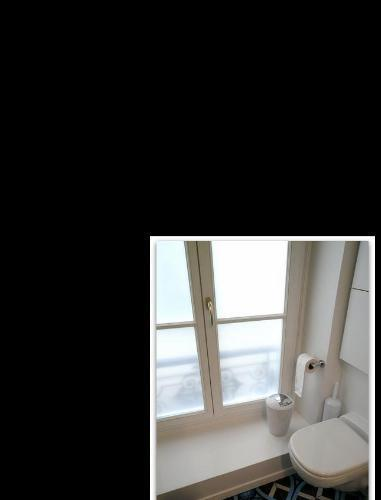Bote de Basura: (266, 391, 297, 438)
Sanitario: (285, 408, 370, 489)
